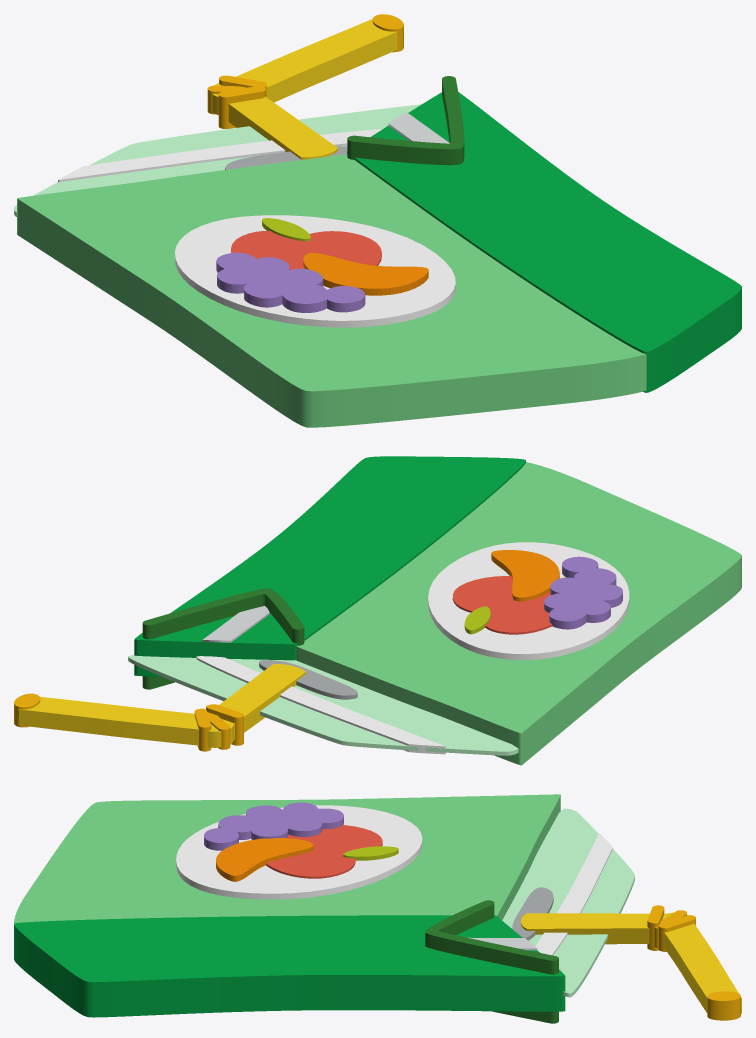
Rendered from emoji_u1f9c3.glb.
3 renders of one model, top to bottom at view 1: azimuth 30°, elevation 25°; view 2: azimuth 150°, elevation 25°; view 3: azimuth 270°, elevation 25°, orthographic. The views are drawn at different scales.
Parts seen in each view (by area): view 1: emoji_u1f9c3; view 2: emoji_u1f9c3; view 3: emoji_u1f9c3.
Part boxes in pixels (x1=…): emoji_u1f9c3: x1=14, y1=14, x2=741, y2=427; emoji_u1f9c3: x1=14, y1=456, x2=741, y2=765; emoji_u1f9c3: x1=14, y1=794, x2=741, y2=1023.
Bounding box in the file's own units: 0.0219 × 0.0032 × 0.0336.
